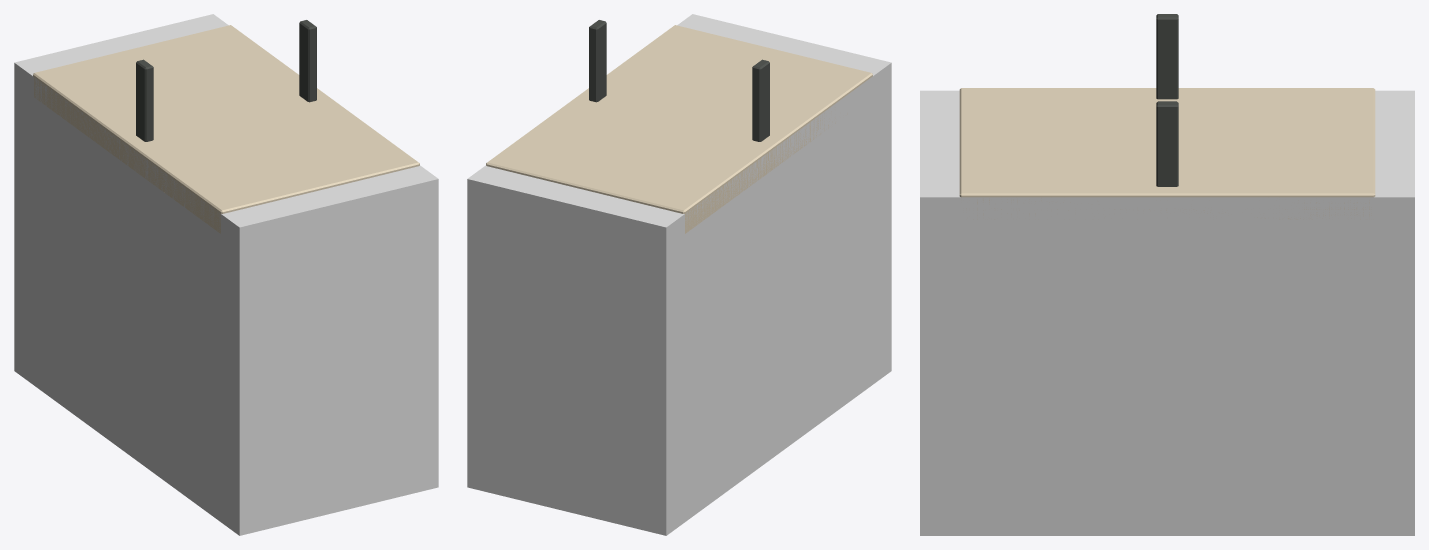
The model's file is golf-cart_basic.glb.
The picture shows the model from 3 angles, left to right: view 1: azimuth 30°, elevation 25°; view 2: azimuth 150°, elevation 25°; view 3: azimuth 270°, elevation 25°; orthographic projection. The views are drawn at different scales.
Parts seen in each view (by area): view 1: COL_golf-cart, MESH_Canopy, MESH_RoofPost.001, MESH_RoofPost; view 2: COL_golf-cart, MESH_Canopy, MESH_RoofPost.001, MESH_RoofPost; view 3: COL_golf-cart, MESH_Canopy, MESH_RoofPost, MESH_RoofPost.001.
Boxes of the visible parts, x1,y1,x2,y2 form: COL_golf-cart: [14, 14, 438, 535]; MESH_Canopy: [33, 25, 419, 233]; MESH_RoofPost.001: [299, 20, 316, 102]; MESH_RoofPost: [136, 59, 153, 141]; COL_golf-cart: [467, 14, 891, 535]; MESH_Canopy: [486, 25, 872, 233]; MESH_RoofPost.001: [589, 20, 606, 102]; MESH_RoofPost: [752, 59, 769, 141]; COL_golf-cart: [920, 90, 1414, 535]; MESH_Canopy: [959, 88, 1375, 219]; MESH_RoofPost: [1156, 14, 1178, 99]; MESH_RoofPost.001: [1156, 101, 1178, 186].
Size of the model in its own units: 1.25 by 2.31 by 2.45.
